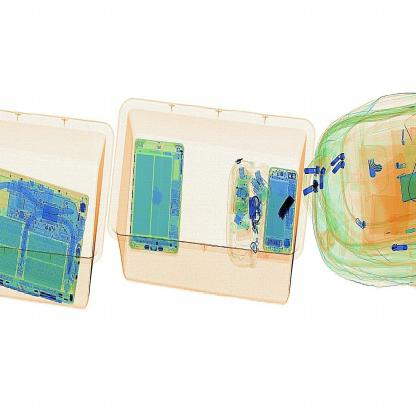scissors: (277, 184, 299, 224)
